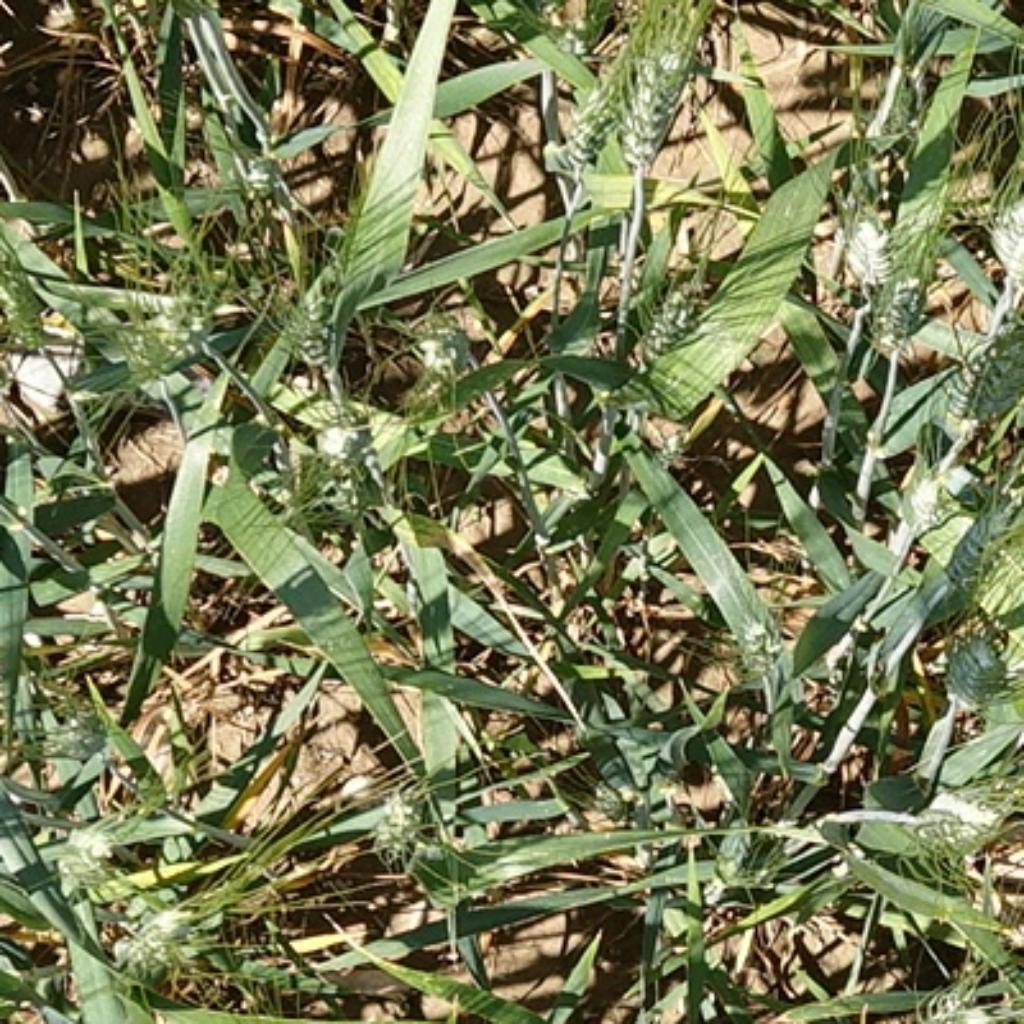0-0: (258, 381, 394, 529), (15, 650, 125, 775), (885, 770, 1024, 862), (619, 263, 721, 376), (115, 283, 226, 386), (104, 885, 209, 980), (931, 332, 1018, 442), (633, 12, 694, 161), (865, 253, 942, 371), (570, 36, 643, 159), (227, 130, 322, 222), (824, 207, 911, 307), (954, 499, 1024, 614), (934, 611, 1016, 709), (2, 222, 53, 378), (46, 808, 120, 885), (288, 281, 346, 370), (366, 775, 432, 852), (906, 970, 1000, 1024), (552, 768, 637, 824), (980, 179, 1024, 281), (415, 320, 475, 386), (906, 458, 957, 535), (734, 612, 789, 682)
